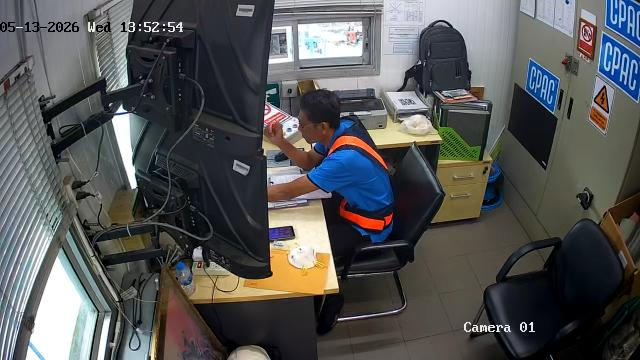Head: (299, 90, 340, 143)
People: (265, 90, 393, 258)
Phone: (269, 226, 294, 241)
